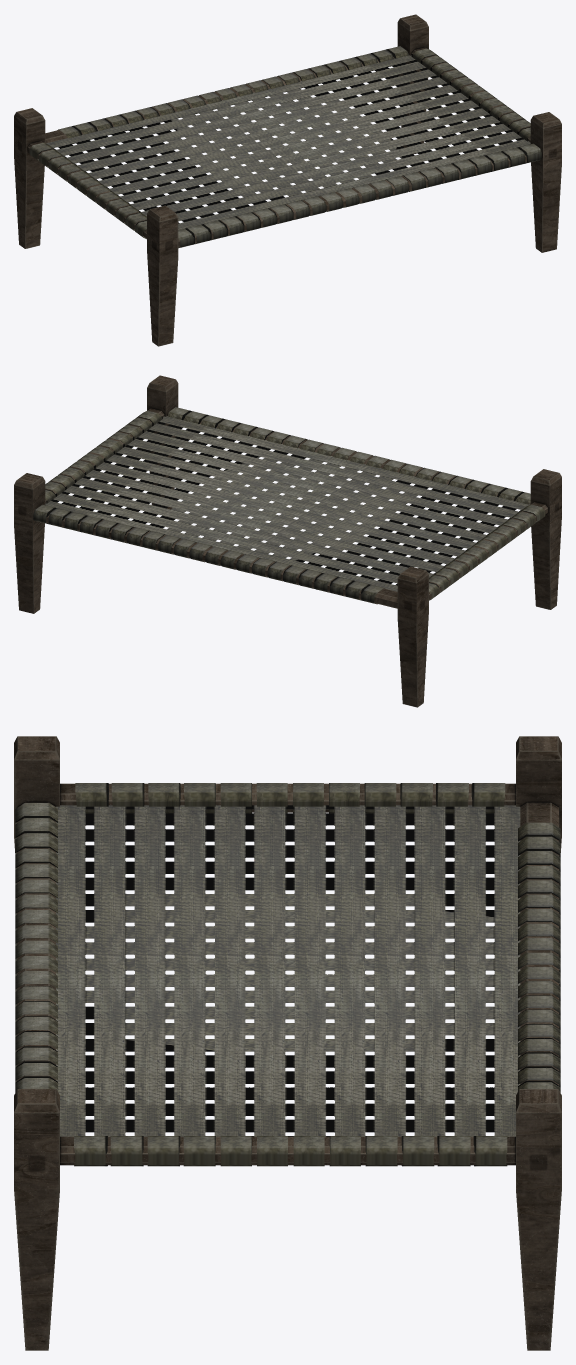
The model's file is scharpai.fbx.
3 renders of one model, top to bottom at view 1: azimuth 30°, elevation 25°; view 2: azimuth 150°, elevation 25°; view 3: azimuth 270°, elevation 25°, orthographic. The views are drawn at different scales.
Parts seen in each view (by area): view 1: Cube.002, Cube.003; view 2: Cube.002, Cube.003; view 3: Cube.002, Cube.003.
Part boxes in pixels (x1,y1,x2,y2): Cube.002: (29, 46, 541, 248); Cube.003: (14, 14, 561, 346); Cube.002: (33, 407, 545, 604); Cube.003: (14, 375, 561, 707); Cube.002: (15, 783, 560, 1166); Cube.003: (14, 736, 561, 1350).
Bounding box in the file's own units: 651 × 203 × 407.
Materials: 2 (2 with a texture image).
